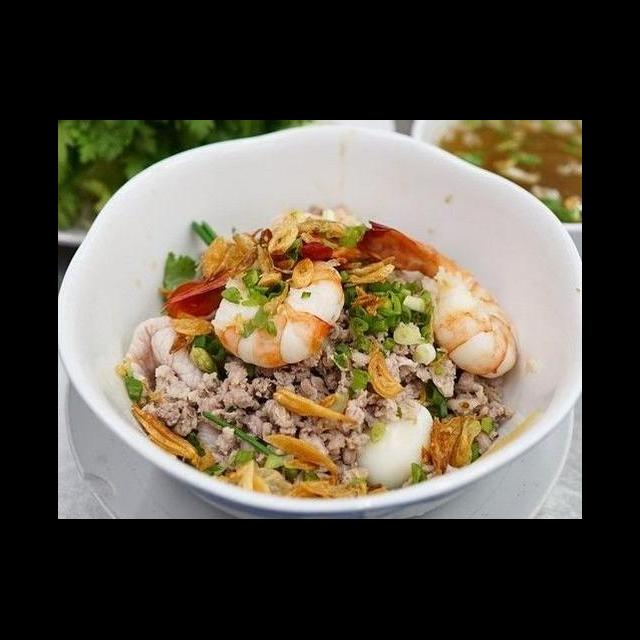thit bam: (95, 181, 335, 365), (136, 338, 312, 471)
thit heo: (120, 165, 331, 256)
tom: (238, 342, 456, 474), (251, 236, 415, 342)
trung: (96, 342, 220, 411)
